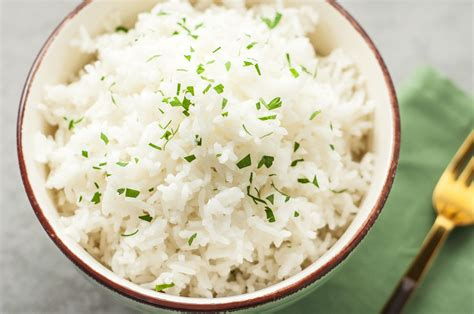rice: (57, 25, 370, 239)
